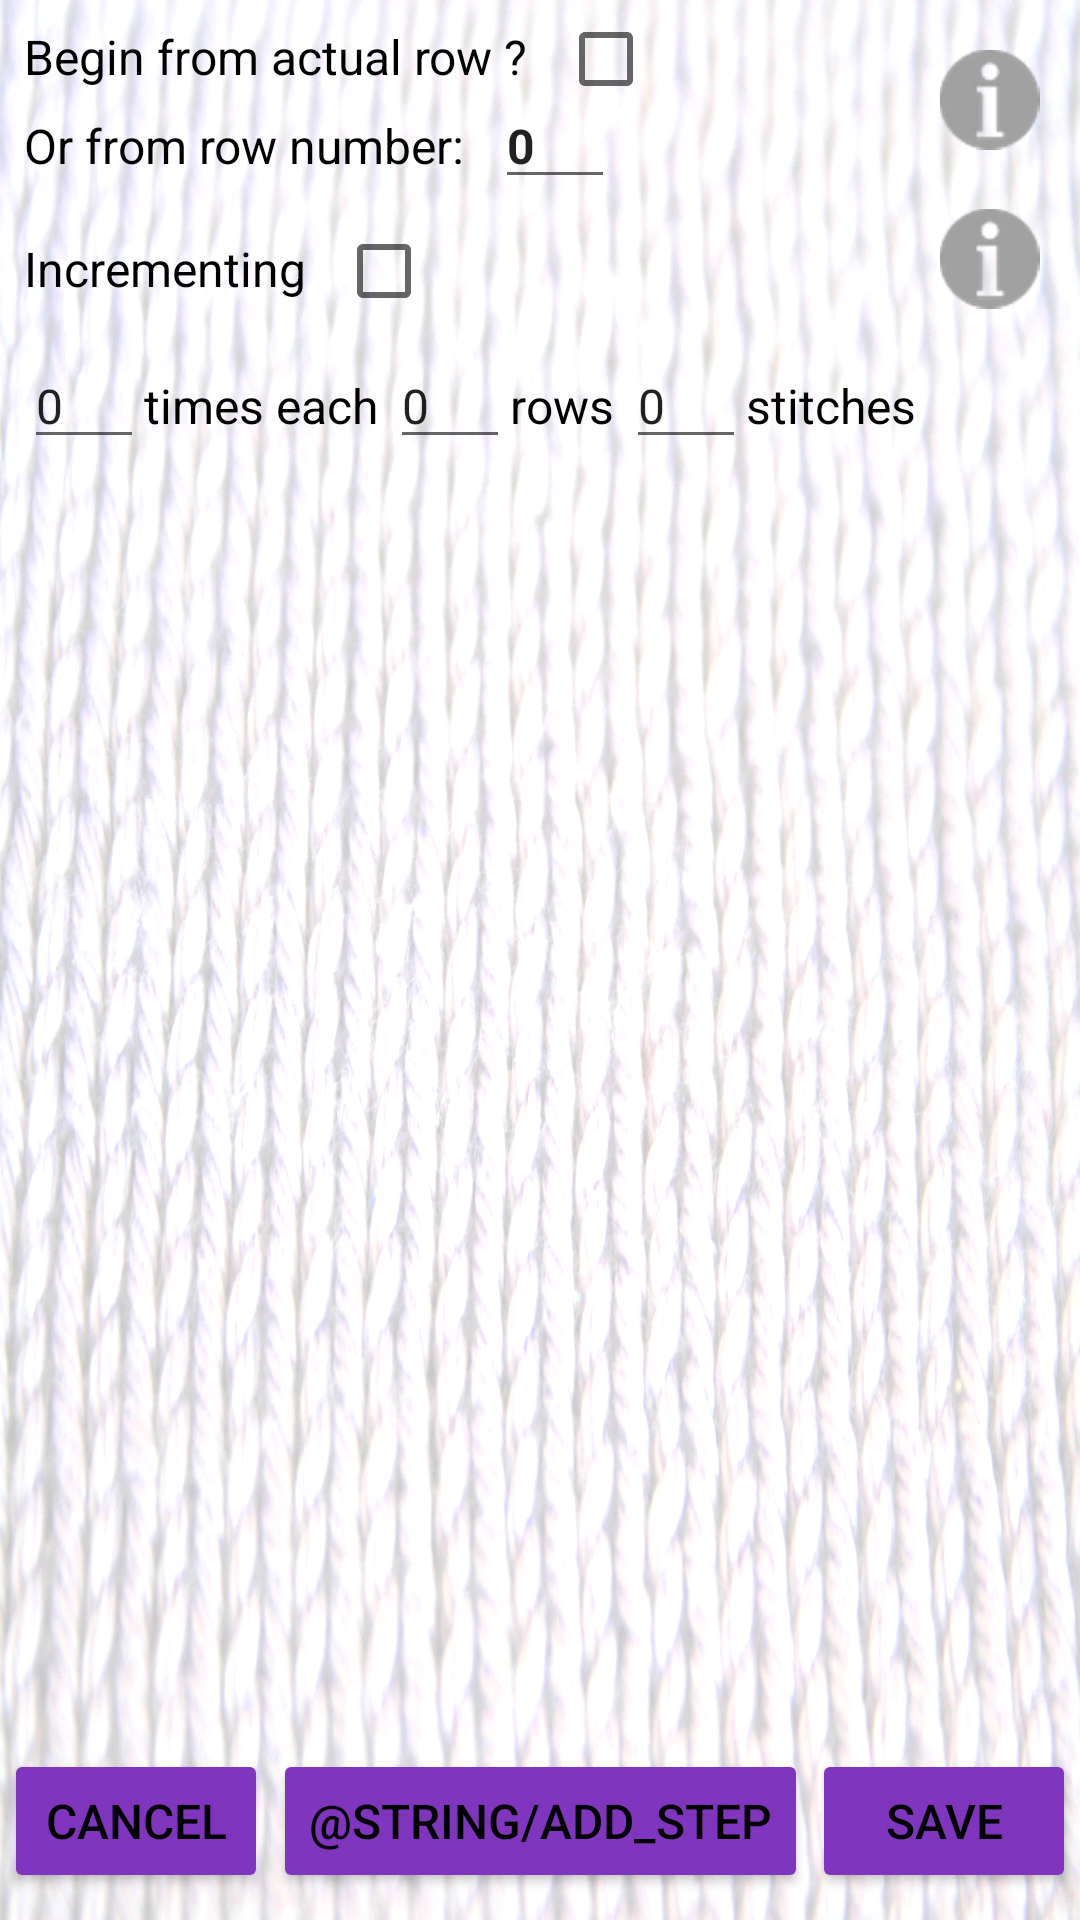

Named icons in this screenshot (1080x1920) and their bounding boxes, [x1=x1, y1=y1, x2=x2, y2=y2]:
Info: [x1=940, y1=40, x2=1047, y2=160], [x1=940, y1=199, x2=1050, y2=319]
